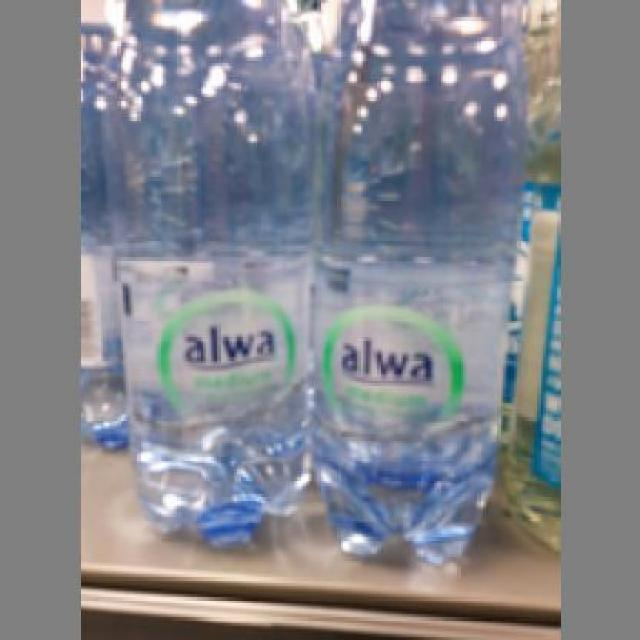Water: (308, 0, 526, 560), (99, 0, 318, 552)
